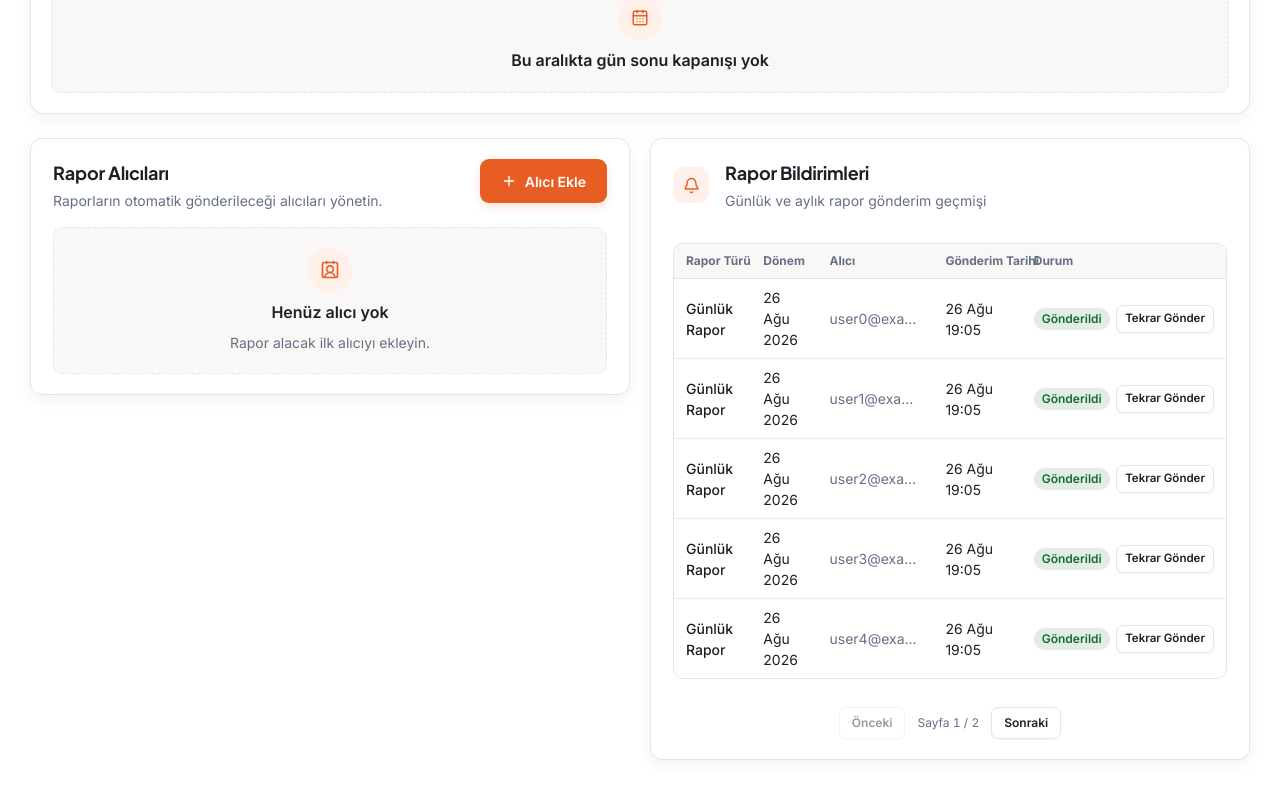
Scenario: BranchReportPage - Rapor Bildirimleri › shows at most 5 notification rows per page and paginates the rest
The width and height of the screenshot is (1280, 800).
(page scrolled)
expect the text "user0@example.com" is shown: met, box [818,278,933,358]
expect the text "user5@example.com" is not shown: met
Click the button "Sonraki" at (1026, 723), box [991,707,1061,739]
(page scrolled)
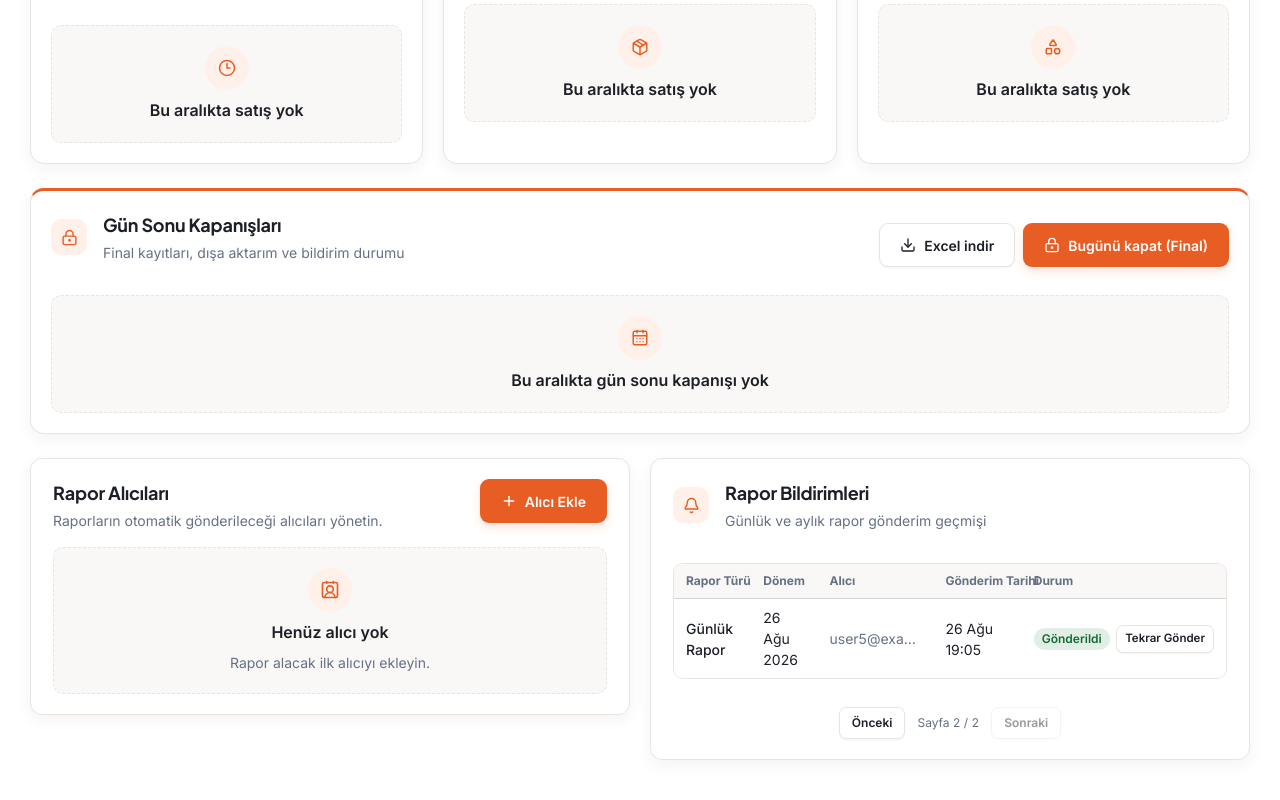
expect the text "user5@example.com" is shown: met, box [818,598,933,678]
expect the text "user0@example.com" is gone: met
